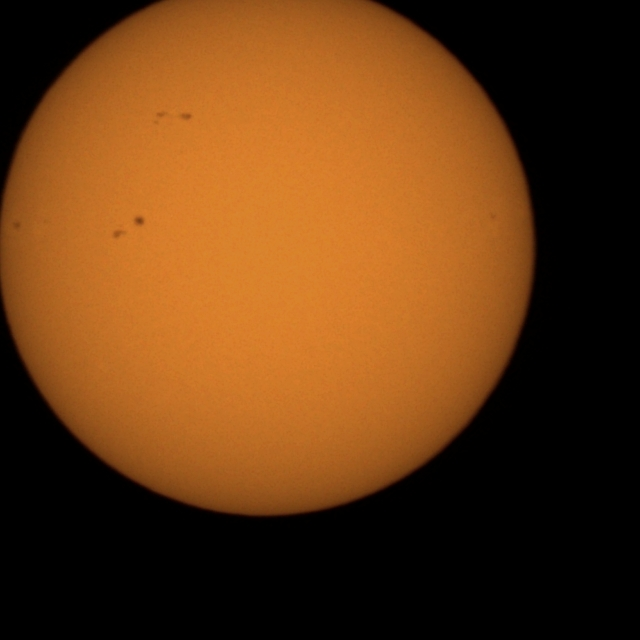sunspot: (110, 214, 146, 241), (153, 110, 167, 125), (111, 227, 127, 240), (132, 214, 146, 228), (178, 112, 193, 122), (11, 220, 22, 232), (488, 211, 498, 221)
